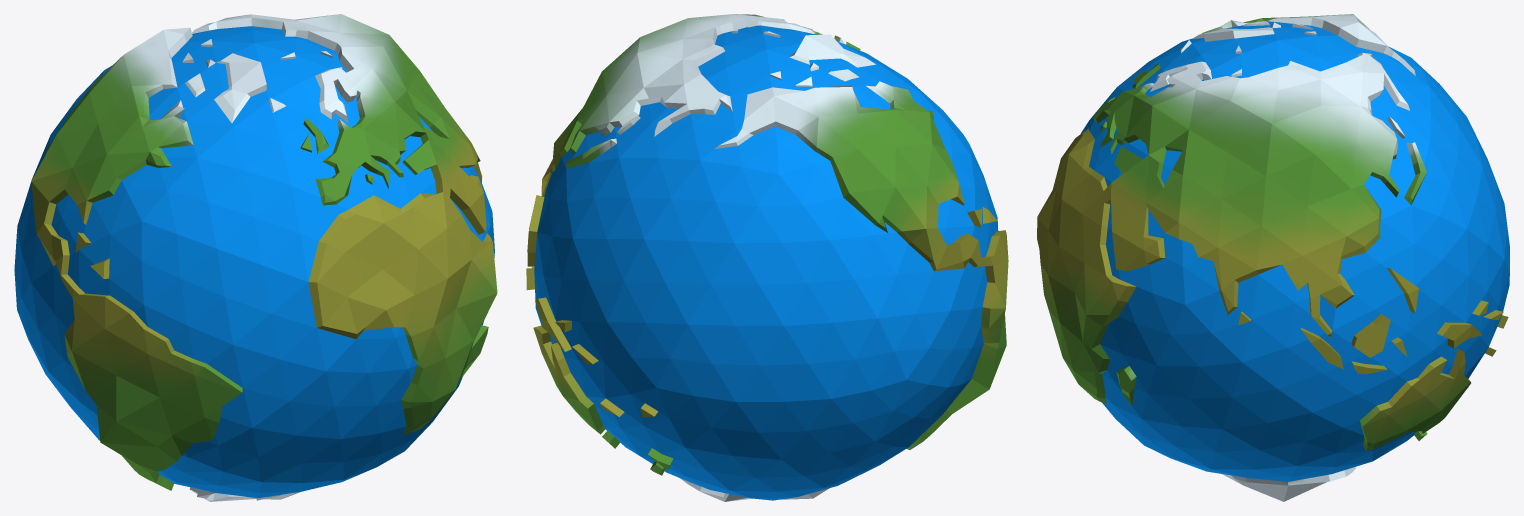
Rendered from earth.glb.
3 renders of one model, left to right at view 1: azimuth 30°, elevation 25°; view 2: azimuth 150°, elevation 25°; view 3: azimuth 270°, elevation 25°, orthographic. The views are drawn at different scales.
Visible parts, largest first — view 1: earth4; view 2: earth4; view 3: earth4.
Boxes of the visible parts, left/top/right/bottom form: earth4: left=14, top=14, right=497, bottom=501; earth4: left=526, top=14, right=1008, bottom=501; earth4: left=1037, top=14, right=1509, bottom=501.
Bounding box in the file's own units: 17.33 × 17.94 × 17.29.
2 materials, 2 textured.
